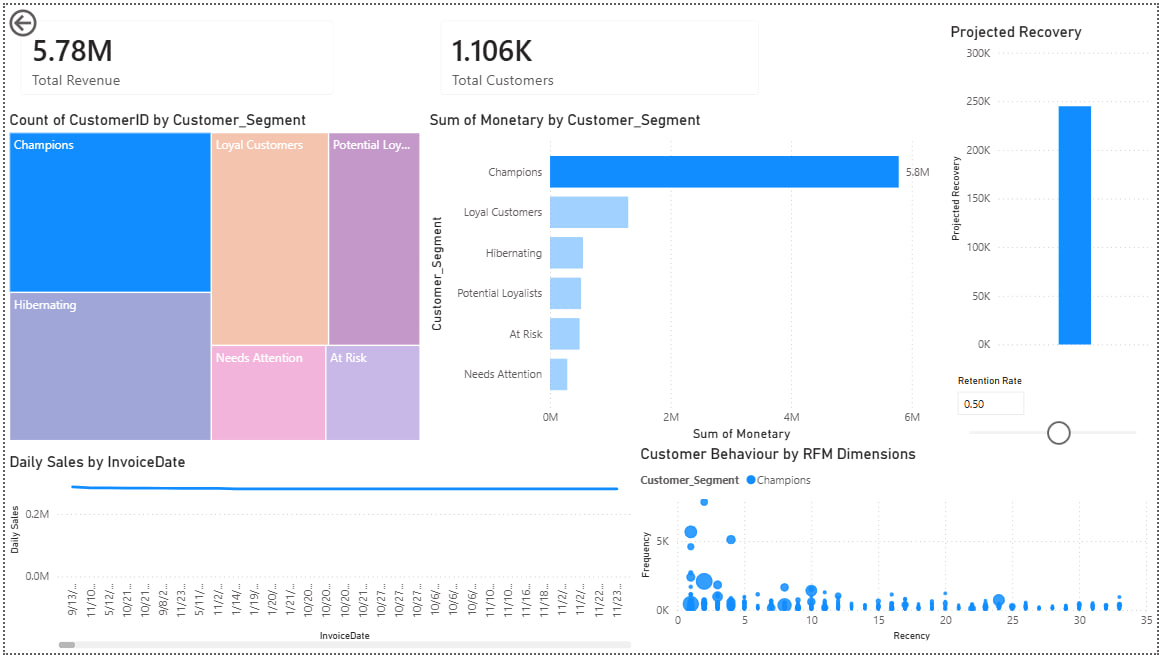

Layout of this report page (visuals, bound fields, positions):
{"tool":"powerbi","page":{"name":"Page 1","canvas":[1280,720],"ordinal":0},"visuals":[{"type":"treemap","fields":{"Group":["Fact_RFM.Customer_Segment"],"Values":["CountNonNull(Fact_RFM.CustomerID)"]},"box":[0,117.5,466.2,371.2],"z":0},{"type":"clusteredBarChart","fields":{"Category":["Fact_RFM.Customer_Segment"],"Y":["Sum(Fact_RFM.Monetary)"]},"box":[466.2,117.5,578.8,371.2],"z":1},{"type":"cardVisual","fields":{"Data":["Sum(Fact_RFM.Monetary)"]},"box":[0,0,466.2,117.5],"z":2},{"type":"cardVisual","fields":{"Data":["CountNonNull(Fact_RFM.CustomerID)"]},"box":[468.8,0,576.2,117.5],"z":3},{"type":"lineChart","fields":{"Y":["Sum(Fact_RFM.Monetary)"],"Category":["data.InvoiceDate"]},"box":[0,498.2,1170,221.8],"z":4},{"type":"slicer","fields":{"Values":["Retention Rate.Retention Rate"]},"box":[1045,498.8,235,102.5],"z":5},{"type":"actionButton","box":[0,0,100,40],"z":6},{"type":"clusteredColumnChart","fields":{"Y":["Fact_RFM.Projected Recovery"]},"box":[1045,117.5,235,371.2],"z":7}]}

Visuals, with their boxes in screenshot pixels (x1, y1, x2, y2), scaled from the page's 1280x720 canvas onto the 1159x655 screenshot:
treemap - Fact_RFM.Customer_Segment x CountNonNull(Fact_RFM.CustomerID): locate(0, 107, 422, 445)
clusteredBarChart - Fact_RFM.Customer_Segment x Sum(Fact_RFM.Monetary): locate(422, 107, 946, 445)
cardVisual - Sum(Fact_RFM.Monetary): locate(0, 0, 422, 107)
cardVisual - CountNonNull(Fact_RFM.CustomerID): locate(424, 0, 946, 107)
lineChart - Sum(Fact_RFM.Monetary) x data.InvoiceDate: locate(0, 453, 1059, 654)
slicer - Retention Rate.Retention Rate: locate(946, 454, 1158, 547)
actionButton: locate(0, 0, 91, 36)
clusteredColumnChart - Fact_RFM.Projected Recovery: locate(946, 107, 1158, 445)
